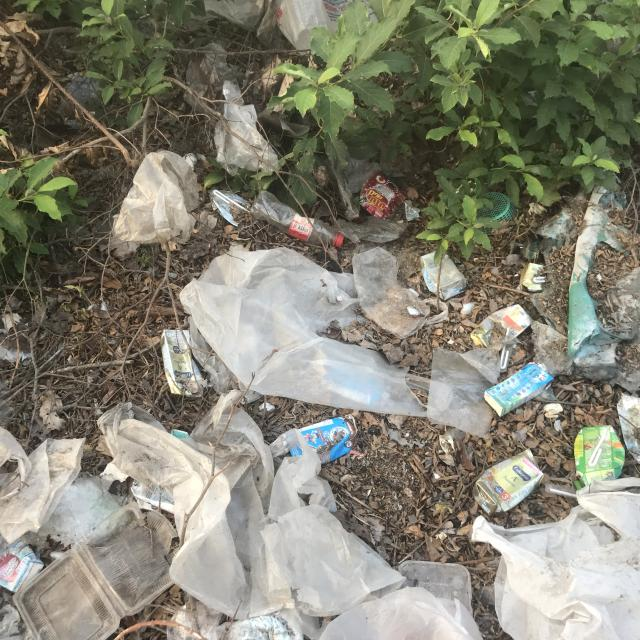Single-layer Plastic: (180, 248, 428, 416), (472, 478, 640, 640), (249, 504, 404, 616), (184, 390, 275, 574), (99, 402, 211, 534), (170, 474, 249, 615), (0, 439, 85, 544), (319, 586, 482, 640), (112, 151, 199, 244), (352, 248, 430, 339), (269, 429, 336, 521), (214, 81, 279, 175), (38, 475, 120, 546), (531, 321, 568, 376)
